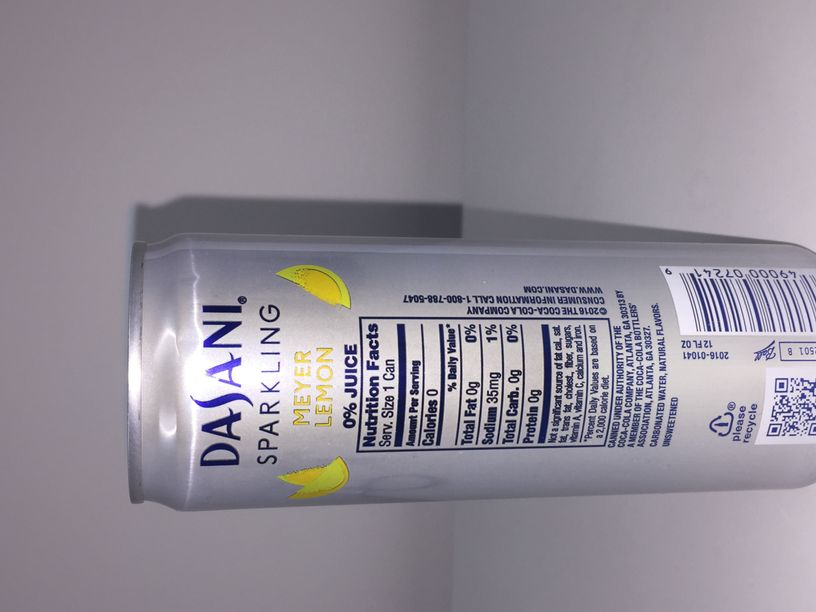lemon: (123, 231, 816, 513)
